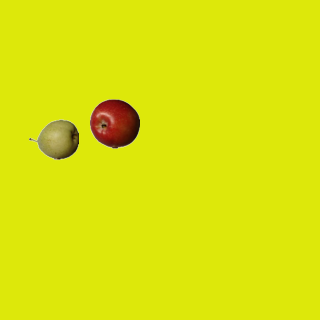Apple Braeburn: (89, 98, 139, 148)
Pear: (28, 114, 78, 164)
